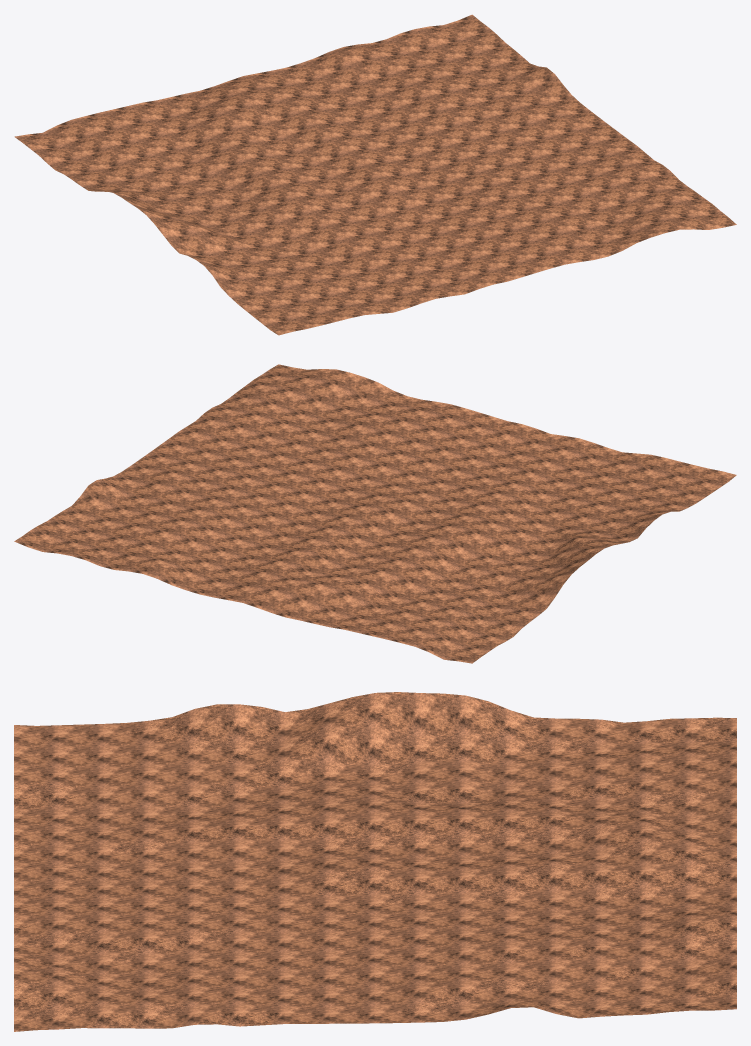
File: terrain_03_02.dae
3 renders of one model, top to bottom at view 1: azimuth 30°, elevation 25°; view 2: azimuth 150°, elevation 25°; view 3: azimuth 270°, elevation 25°, orthographic. The views are drawn at different scales.
Visible parts, largest first — view 1: terrain_03_02-node; view 2: terrain_03_02-node; view 3: terrain_03_02-node.
Boxes of the visible parts, <box> form: terrain_03_02-node: <box>14,14,736,335</box>; terrain_03_02-node: <box>14,364,736,663</box>; terrain_03_02-node: <box>14,692,736,1031</box>.
Size of the model in its own units: 128 by 128 by 7.82.
Materials: 1 (1 with a texture image).
